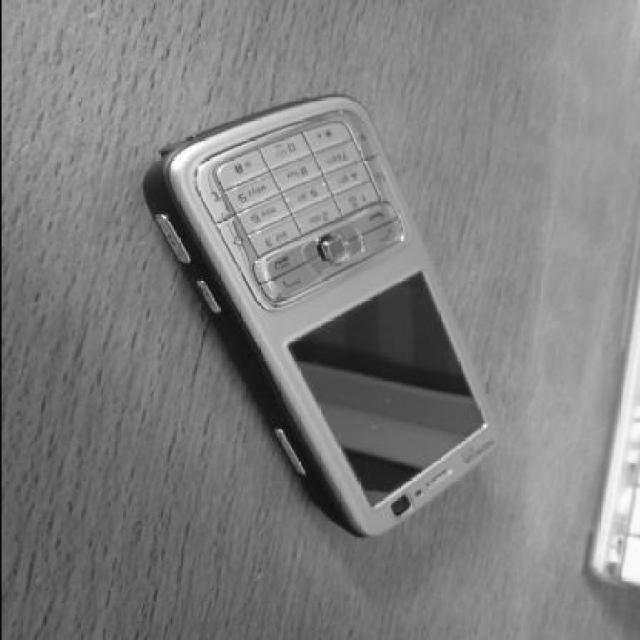fake: (150, 76, 498, 553)
